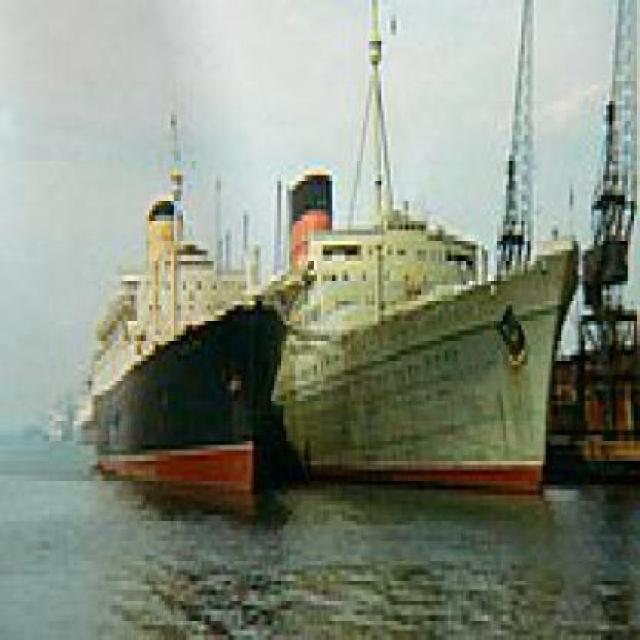cruise: (83, 176, 288, 516)
